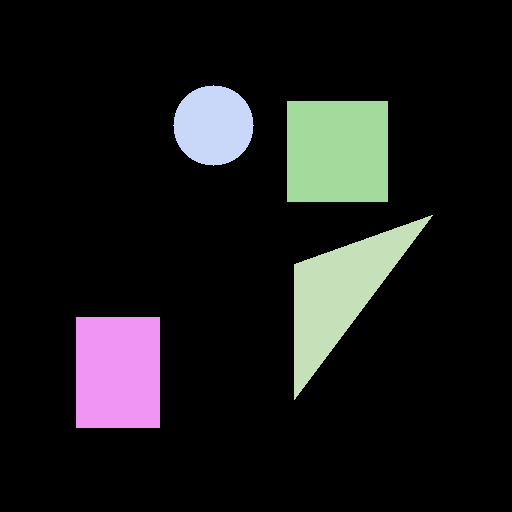circle: (173, 85, 253, 165)
rectangle: (76, 317, 159, 427)
square: (287, 101, 387, 201)
triangle: (294, 215, 432, 399)
